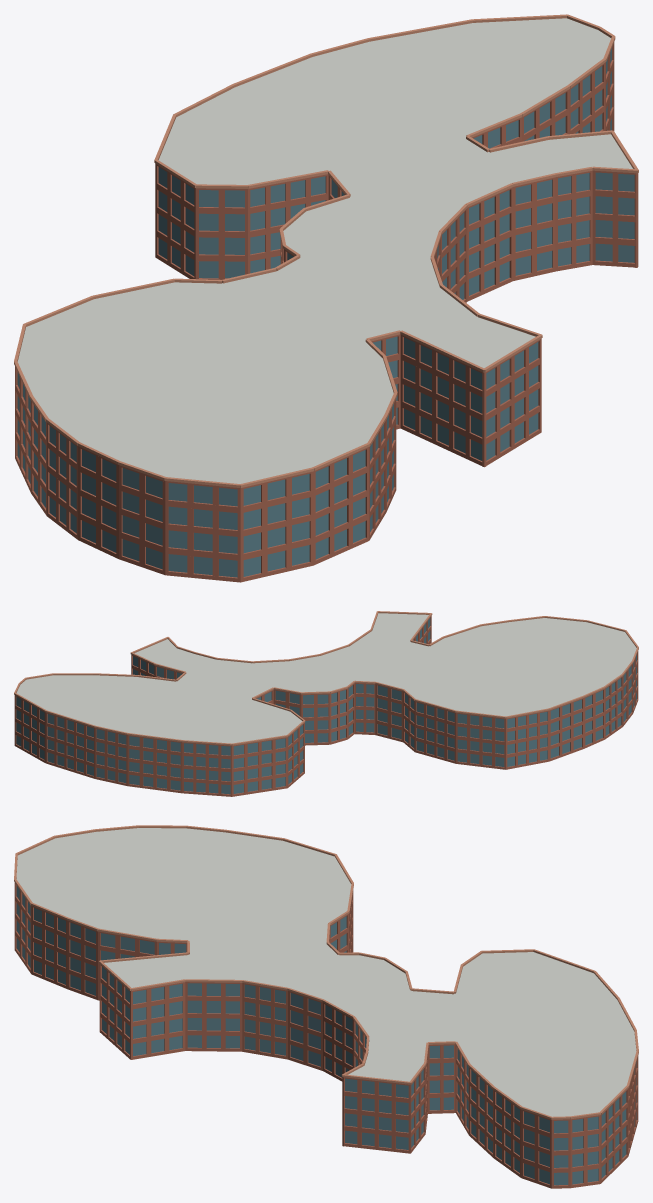
Rendered from activity.far.glb.
The picture shows the model from 3 angles, top to bottom: view 1: azimuth 30°, elevation 25°; view 2: azimuth 150°, elevation 25°; view 3: azimuth 270°, elevation 25°; orthographic projection. The views are drawn at different scales.
Parts seen in each view (by area): view 1: roof, wall, glass, trim; view 2: roof, wall, glass, trim; view 3: roof, wall, glass, trim.
Boxes of the visible parts, x1=… form: roof: x1=17, y1=18, x2=632, y2=483; wall: x1=15, y1=42, x2=638, y2=582; glass: x1=17, y1=48, x2=634, y2=577; trim: x1=14, y1=14, x2=638, y2=487; roof: x1=16, y1=613, x2=636, y2=743; wall: x1=14, y1=616, x2=638, y2=796; glass: x1=16, y1=618, x2=636, y2=794; trim: x1=14, y1=611, x2=638, y2=745; roof: x1=16, y1=828, x2=636, y2=1116; wall: x1=14, y1=882, x2=638, y2=1188; glass: x1=16, y1=886, x2=636, y2=1185; trim: x1=14, y1=825, x2=638, y2=1119.
Bounding box in the file's own units: 144 × 16.34 × 130.
